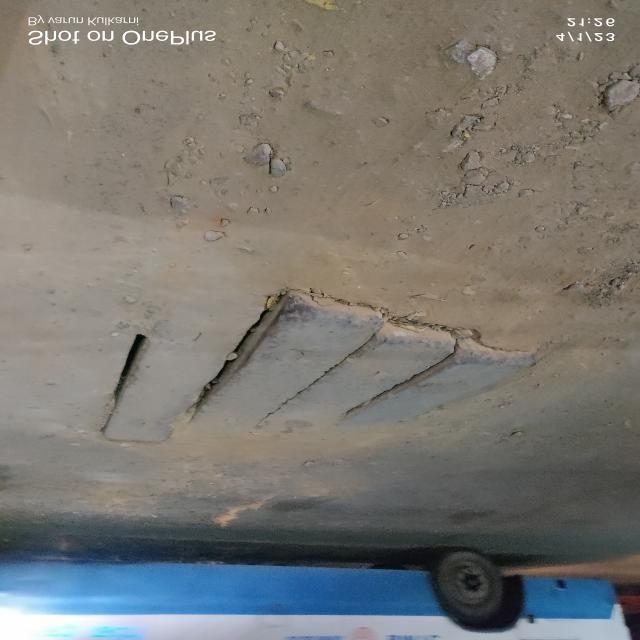potholes: (84, 282, 513, 454)
